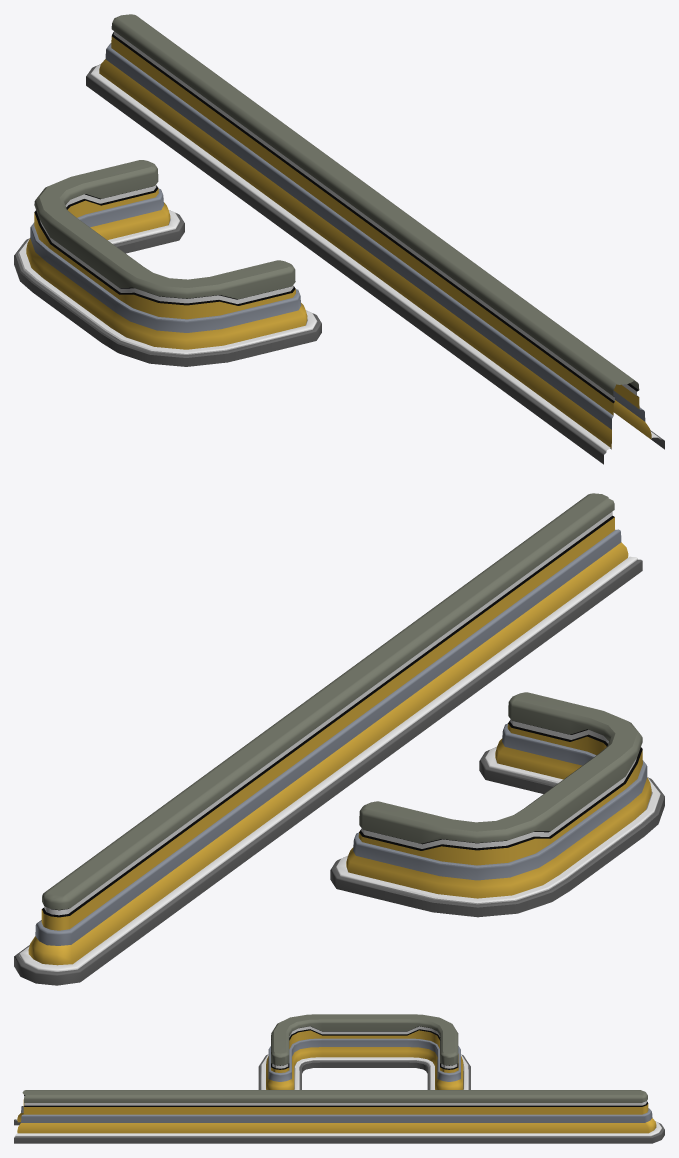
File: Level11_Small_walls.fbx
3 views of the same model, one above another, from view 1: azimuth 30°, elevation 25°; view 2: azimuth 150°, elevation 25°; view 3: azimuth 270°, elevation 25° (orthographic). The views are drawn at different scales.
Visible parts, largest first — view 1: Small_wallv2_7, Small_wall_L10; view 2: Small_wallv2_7, Small_wall_L10; view 3: Small_wallv2_7, Small_wall_L10.
Boxes of the visible parts, bbox=[...] form: Small_wallv2_7: bbox=[86, 14, 664, 464]; Small_wall_L10: bbox=[14, 160, 321, 366]; Small_wallv2_7: bbox=[14, 493, 642, 985]; Small_wall_L10: bbox=[330, 692, 664, 917]; Small_wallv2_7: bbox=[14, 1090, 664, 1143]; Small_wall_L10: bbox=[258, 1014, 470, 1089].
Size of the model in its own units: 176 by 37.16 by 515.
